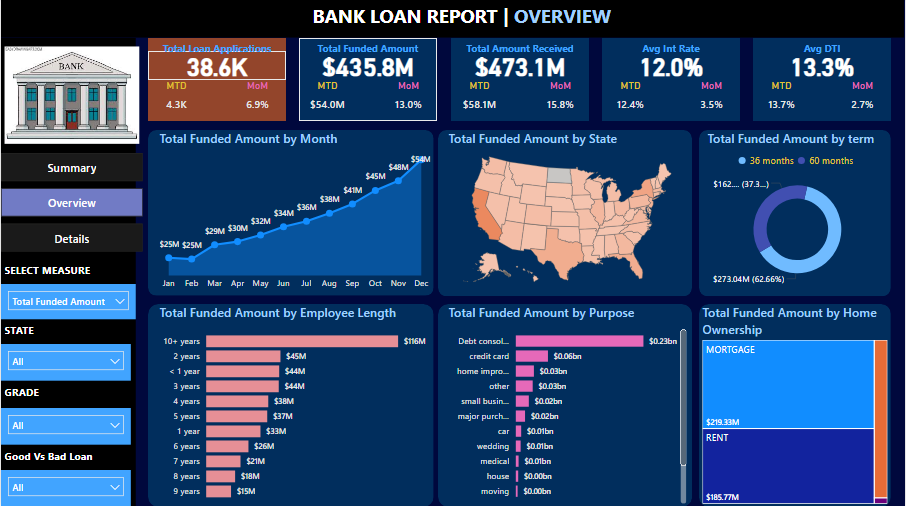

The page's visual inventory and layout, read from the dashboard file:
{"tool":"powerbi","page":{"name":"Overview","canvas":[1280,720],"ordinal":1},"visuals":[{"type":"shape","box":[0,0,1280,55],"z":0},{"type":"shape","box":[0,55.3,191.3,664.7],"z":1000},{"type":"textbox","box":[436.5,0,450.7,55.3],"z":2000},{"type":"group","id":"g1","title":"Group 1","box":[208.3,55.3,195.6,117.6],"z":3000},{"type":"shape","box":[208.3,55.3,195.6,117.6],"z":3000,"group":"g1"},{"type":"shape","box":[422.7,55.3,195.6,117.6],"z":3000,"group":"g2"},{"type":"shape","box":[637.1,55.3,195.6,117.6],"z":3000,"group":"g3"},{"type":"shape","box":[851.5,55.3,195.6,117.6],"z":3000,"group":"g4"},{"type":"shape","box":[1065.8,55.3,195.6,117.6],"z":3000,"group":"g5"},{"type":"card","fields":{"Values":["Measure Table.Total Loan Applications"]},"box":[208.3,73.7,195.6,41.1],"z":4000,"group":"g1"},{"type":"card","fields":{"Values":["Measure Table.Total Funded Amount"]},"box":[422.7,73.7,195.6,41.1],"z":4000,"group":"g2"},{"type":"card","fields":{"Values":["Measure Table.Total Amount Received"]},"box":[637.1,73.7,195.6,41.1],"z":4000,"group":"g3"},{"type":"card","fields":{"Values":["Measure Table.Avg Interest Rate"]},"box":[851.5,73.7,195.6,41.1],"z":4000,"group":"g4"},{"type":"card","fields":{"Values":["Measure Table.Avg DTI"]},"box":[1065.8,73.7,195.6,41.1],"z":4000,"group":"g5"},{"type":"shape","box":[208.3,185.7,405,235],"z":4000},{"type":"textbox","box":[208.3,55.3,195.6,35.4],"z":5000,"group":"g1"},{"type":"group","id":"g2","title":"Group 1","box":[422.7,55.3,195.6,117.6],"z":5000},{"type":"textbox","box":[422.7,55.3,195.6,35.4],"z":5000,"group":"g2"},{"type":"textbox","box":[637.1,55.3,195.6,35.4],"z":5000,"group":"g3"},{"type":"textbox","box":[851.5,55.3,195.6,35.4],"z":5000,"group":"g4"},{"type":"textbox","box":[1065.8,55.3,195.6,35.4],"z":5000,"group":"g5"},{"type":"group","id":"g3","title":"Group 1","box":[637.1,55.3,195.6,117.6],"z":6000},{"type":"card","title":"MTD","fields":{"Values":["Measure Table.MTD Loan Applications"]},"box":[208.3,114.8,80.8,58.1],"z":6000,"group":"g1"},{"type":"card","title":"MTD","fields":{"Values":["Measure Table.MTD Funded Amount"]},"box":[422.7,114.8,80.8,58.1],"z":6000,"group":"g2"},{"type":"card","title":"MTD","fields":{"Values":["Measure Table.MTD Received Amount"]},"box":[637.1,114.8,80.8,58.1],"z":6000,"group":"g3"},{"type":"card","title":"MTD","fields":{"Values":["Measure Table.MTD Avg Int Rate"]},"box":[851.5,114.8,80.8,58.1],"z":6000,"group":"g4"},{"type":"card","title":"MTD","fields":{"Values":["Measure Table.MTD Avg DTI"]},"box":[1065.8,114.8,80.8,58.1],"z":6000,"group":"g5"},{"type":"group","id":"g4","title":"Group 1","box":[851.5,55.3,195.6,117.6],"z":7000},{"type":"card","title":"MoM","fields":{"Values":["Measure Table.MoM Loan Applications"]},"box":[323.1,114.8,80.8,58.1],"z":7000,"group":"g1"},{"type":"card","title":"MoM","fields":{"Values":["Measure Table.MoM Funded Amount"]},"box":[537.5,114.8,80.8,58.1],"z":7000,"group":"g2"},{"type":"card","title":"MoM","fields":{"Values":["Measure Table.MoM Received Amount"]},"box":[751.9,114.8,80.8,58.1],"z":7000,"group":"g3"},{"type":"card","title":"MoM","fields":{"Values":["Measure Table.MoM Avg Int Rate"]},"box":[966.3,114.8,80.8,58.1],"z":7000,"group":"g4"},{"type":"card","title":"MoM","fields":{"Values":["Measure Table.MoM Avg DTI"]},"box":[1180.6,114.8,80.8,58.1],"z":7000,"group":"g5"},{"type":"group","id":"g5","title":"Group 1","box":[1065.8,55.3,195.6,117.6],"z":8000},{"type":"slicer","fields":{"Values":["financial_loan.address_state"]},"box":[0,484.7,184.3,52.4],"z":9000},{"type":"textbox","box":[0,449.3,92.1,35.4],"z":10000},{"type":"slicer","fields":{"Values":["financial_loan.grade"]},"box":[0,575.4,184.3,52.4],"z":11000},{"type":"textbox","box":[0,538.6,92.1,35.4],"z":12000},{"type":"textbox","box":[0,627.9,184.3,35.4],"z":13000},{"type":"slicer","fields":{"Values":["financial_loan.Good Vs Bad Loan"]},"box":[0,663.3,184.3,52.4],"z":14000},{"type":"areaChart","fields":{"Y":["Measure Table.Total Funded Amount"],"Category":["Date Table.Month"]},"box":[219.7,185.7,394,235.3],"z":15000},{"type":"slicer","fields":{"Values":["Select Measures.Select Measures"]},"box":[0,399.7,191.3,49.6],"z":16000},{"type":"textbox","box":[0,362.8,180,35.4],"z":17000},{"type":"shape","box":[619,185.1,360,235.8],"z":18000},{"type":"shapeMap","fields":{"Value":["Measure Table.Total Funded Amount"],"Category":["financial_loan.address_state"]},"box":[629.2,185.1,347.1,230],"z":19000},{"type":"shape","box":[989.3,185.1,271.9,235.8],"z":20000},{"type":"donutChart","fields":{"Y":["Measure Table.Total Funded Amount"],"Category":["financial_loan.term"]},"box":[996.5,185.1,264.7,230],"z":21000},{"type":"shape","box":[208.3,432.5,405,287.8],"z":22000},{"type":"barChart","fields":{"Y":["Measure Table.Total Funded Amount"],"Category":["financial_loan.emp_length"]},"box":[219.8,432.5,393.4,287.8],"z":23000},{"type":"shape","box":[619,432.5,360.1,287.8],"z":24000},{"type":"barChart","fields":{"Y":["Measure Table.Total Funded Amount"],"Category":["financial_loan.purpose"]},"box":[629.2,432.5,347.1,287.8],"z":25000},{"type":"shape","box":[989.3,432.5,271.9,287.8],"z":26000},{"type":"treemap","fields":{"Values":["Measure Table.Total Funded Amount"],"Group":["financial_loan.home_ownership"]},"box":[989.3,432.5,271.9,287.8],"z":27000},{"type":"image","box":[0,42.5,201.3,163],"z":28000},{"type":"pageNavigator","box":[0,208.3,201.3,141.7],"z":29000}]}

Visuals, with their boxes in screenshot pixels (x1, y1, x2, y2), scaled from the page's 1280x720 canvas onto the 906x506 screenshot:
shape: 0:0:905:39
shape: 0:39:135:505
textbox: 309:0:628:39
"Group 1" group: 147:39:286:122
shape: 147:39:286:122
shape: 299:39:438:122
shape: 451:39:589:122
shape: 603:39:741:122
shape: 754:39:893:122
card - Measure Table.Total Loan Applications: 147:52:286:81
card - Measure Table.Total Funded Amount: 299:52:438:81
card - Measure Table.Total Amount Received: 451:52:589:81
card - Measure Table.Avg Interest Rate: 603:52:741:81
card - Measure Table.Avg DTI: 754:52:893:81
shape: 147:131:434:296
textbox: 147:39:286:64
"Group 1" group: 299:39:438:122
textbox: 299:39:438:64
textbox: 451:39:589:64
textbox: 603:39:741:64
textbox: 754:39:893:64
"Group 1" group: 451:39:589:122
"MTD" card: 147:81:205:122
"MTD" card: 299:81:356:122
"MTD" card: 451:81:508:122
"MTD" card: 603:81:660:122
"MTD" card: 754:81:812:122
"Group 1" group: 603:39:741:122
"MoM" card: 229:81:286:122
"MoM" card: 380:81:438:122
"MoM" card: 532:81:589:122
"MoM" card: 684:81:741:122
"MoM" card: 836:81:893:122
"Group 1" group: 754:39:893:122
slicer - financial_loan.address_state: 0:341:130:377
textbox: 0:316:65:341
slicer - financial_loan.grade: 0:404:130:441
textbox: 0:379:65:403
textbox: 0:441:130:466
slicer - financial_loan.Good Vs Bad Loan: 0:466:130:503
areaChart - Measure Table.Total Funded Amount x Date Table.Month: 156:131:434:296
slicer - Select Measures.Select Measures: 0:281:135:316
textbox: 0:255:127:280
shape: 438:130:693:296
shapeMap - Measure Table.Total Funded Amount x financial_loan.address_state: 445:130:691:292
shape: 700:130:893:296
donutChart - Measure Table.Total Funded Amount x financial_loan.term: 705:130:893:292
shape: 147:304:434:505
barChart - Measure Table.Total Funded Amount x financial_loan.emp_length: 156:304:434:505
shape: 438:304:693:505
barChart - Measure Table.Total Funded Amount x financial_loan.purpose: 445:304:691:505
shape: 700:304:893:505
treemap - Measure Table.Total Funded Amount x financial_loan.home_ownership: 700:304:893:505
image: 0:30:142:144
pageNavigator: 0:146:142:246
